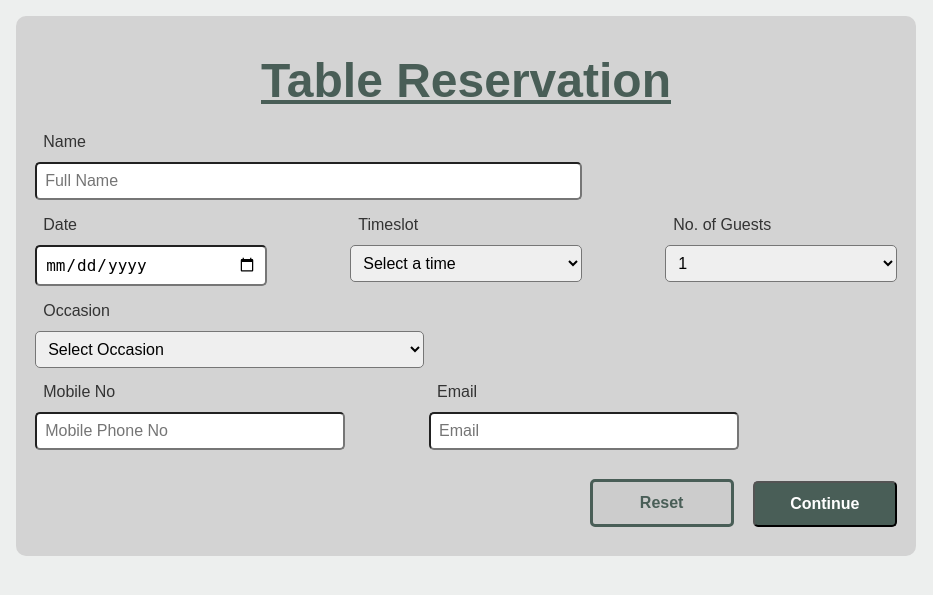
Test: shows email validation error on invalid input
Step 1. Type "invalidemail" into the field labelled "Email" → (584, 431), box [429, 412, 739, 450]
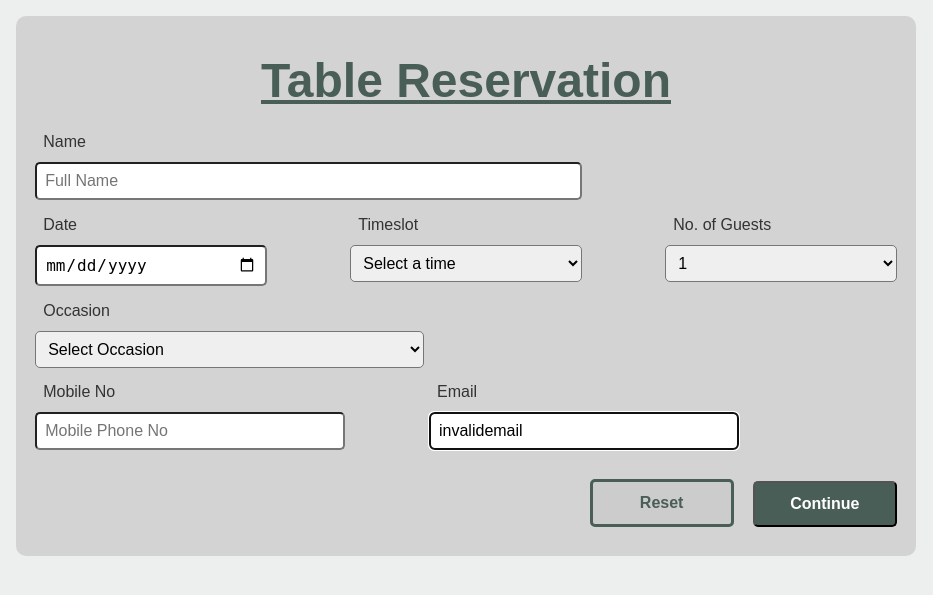
Step 2. Click the button "Continue" → click(825, 504), box [753, 481, 897, 527]
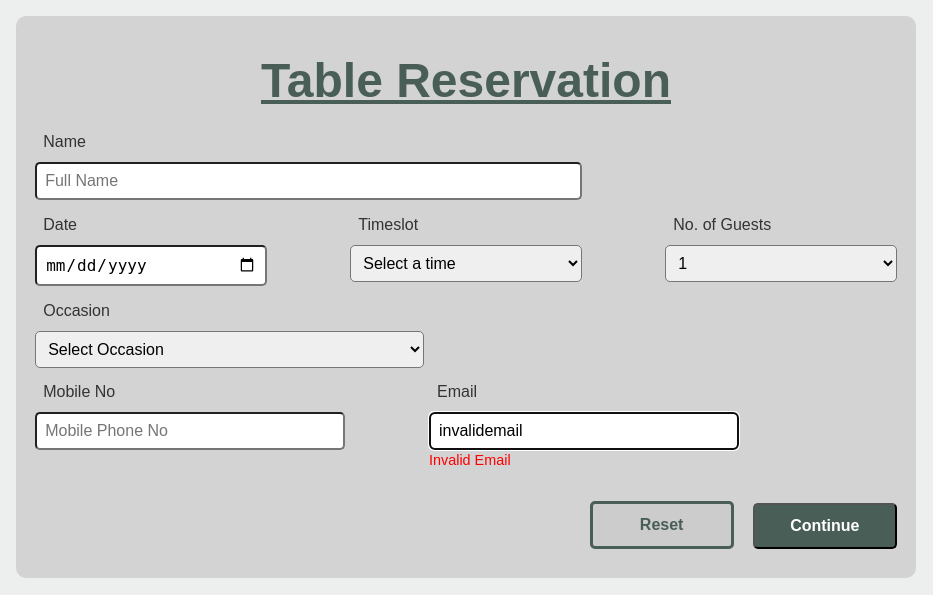
Check: the text "Invalid Email" is shown, box [429, 452, 511, 468]
